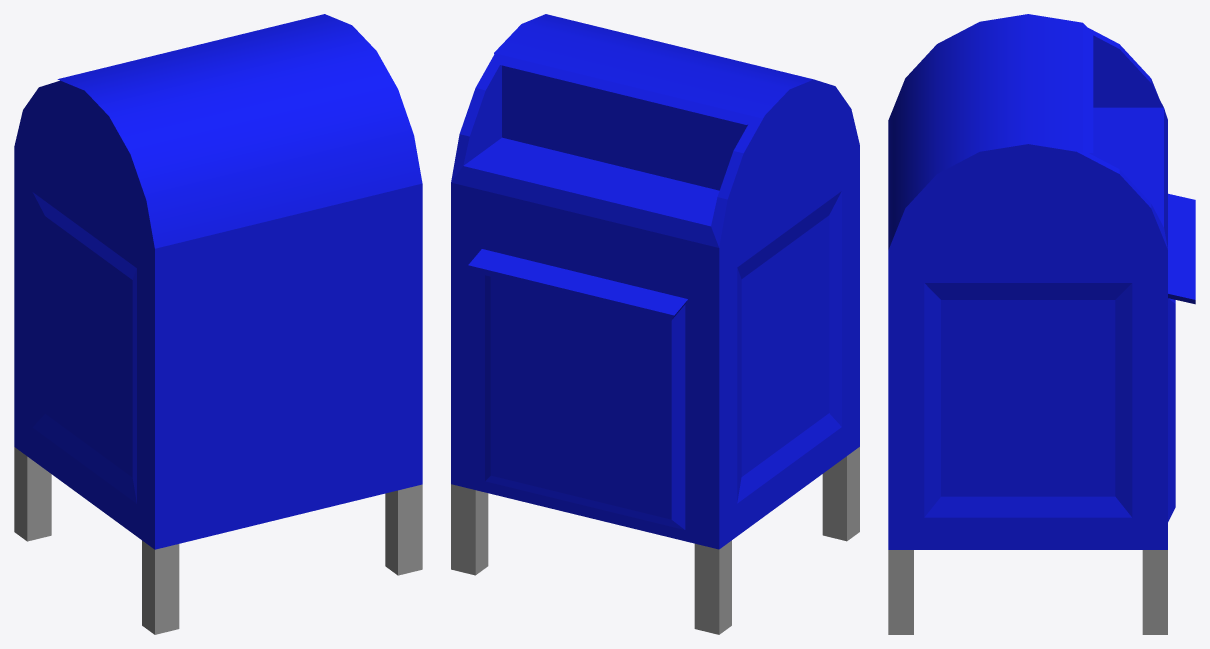
The model's file is mailbox_Model.FBX.
The picture shows the model from 3 angles, left to right: view 1: azimuth 30°, elevation 25°; view 2: azimuth 150°, elevation 25°; view 3: azimuth 270°, elevation 25°; orthographic projection.
Visible parts, largest first — view 1: Cylinder001; view 2: Cylinder001; view 3: Cylinder001.
Boxes of the visible parts, x1,y1,x2,y2 form: Cylinder001: (14,14,422,634); Cylinder001: (451,14,859,634); Cylinder001: (888,14,1195,634).
Bounding box in the file's own units: 16.84 × 29.64 × 16.81.
Materials: 1 (1 with a texture image).
